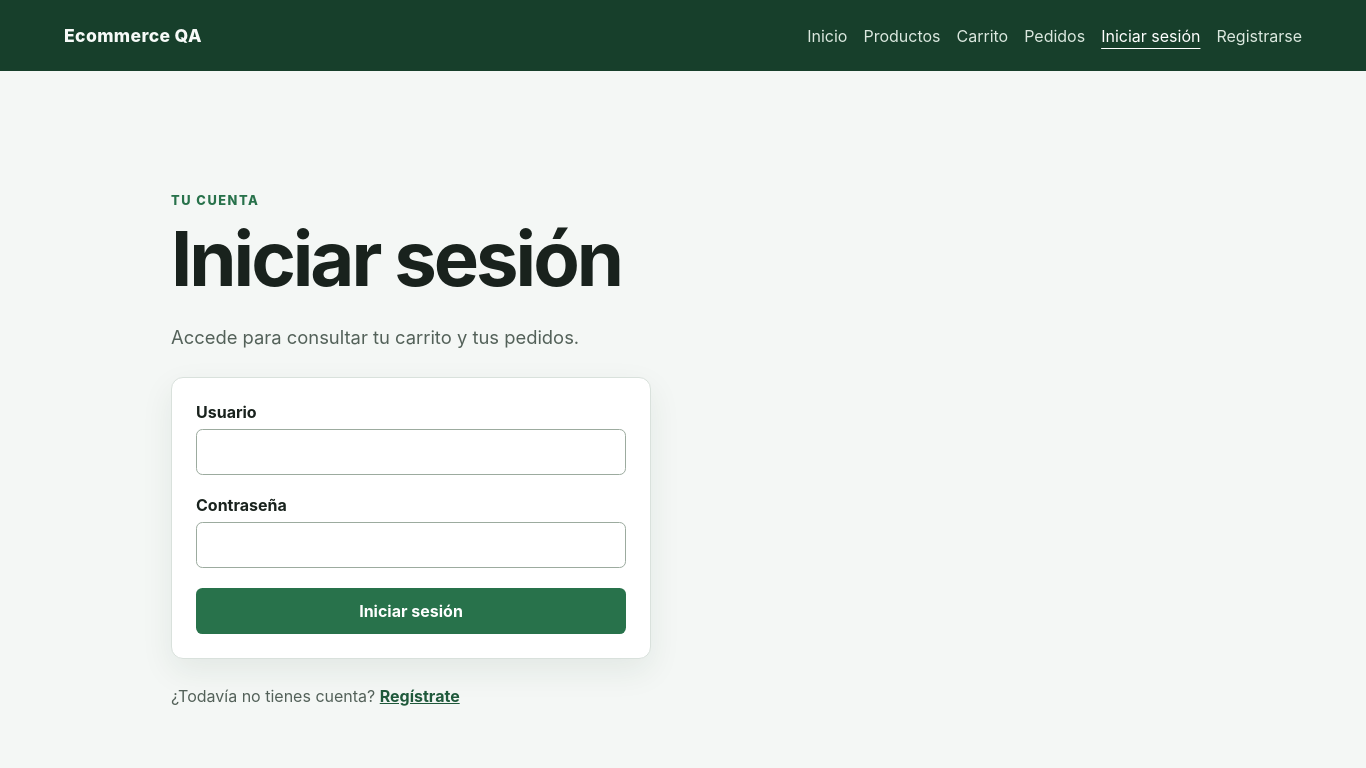
Test: flujo de autenticación › valida los campos obligatorios del login
Click the button "Iniciar sesión". click: click(411, 611)
box: [196,588,626,634]
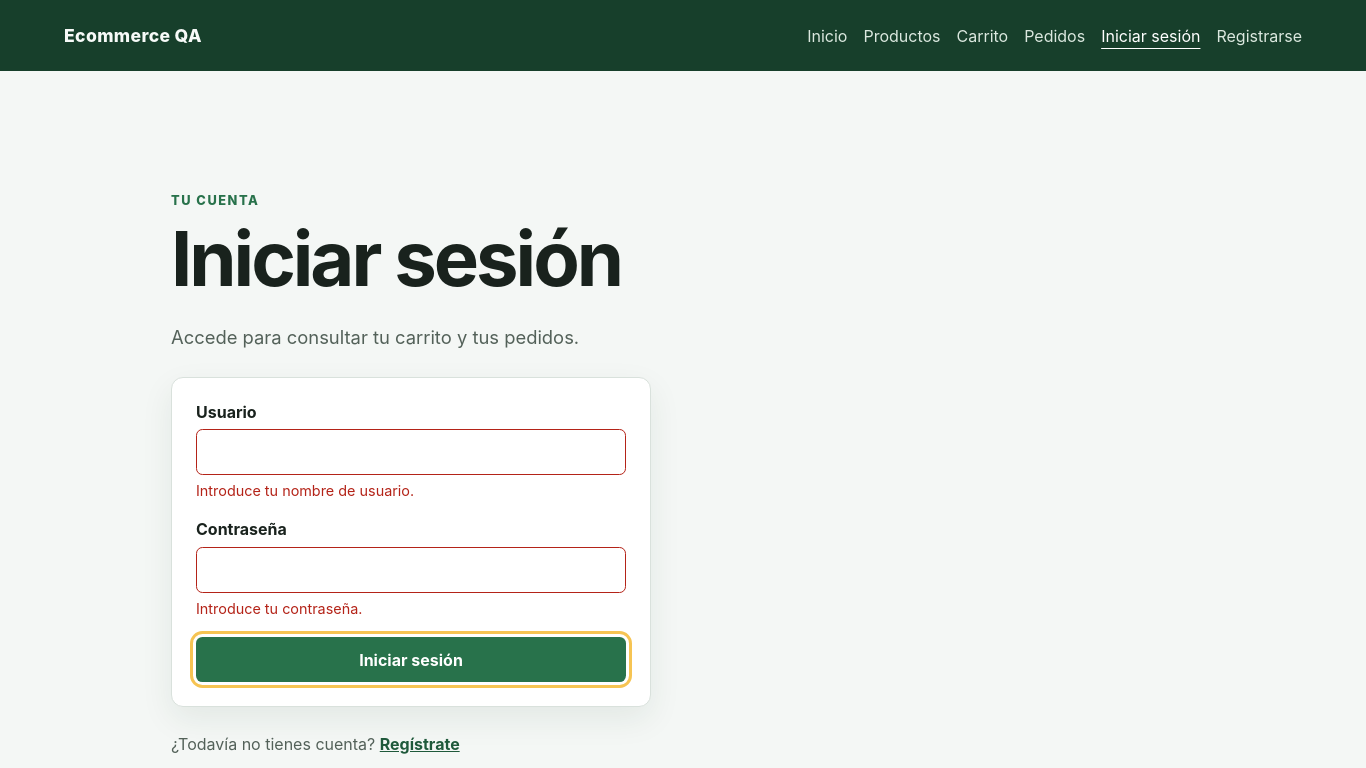
expect the text "Introduce tu nombre de usuario." is shown: met, box [196,482,414,499]
expect the text "Introduce tu contraseña." is shown: met, box [196,600,362,617]
